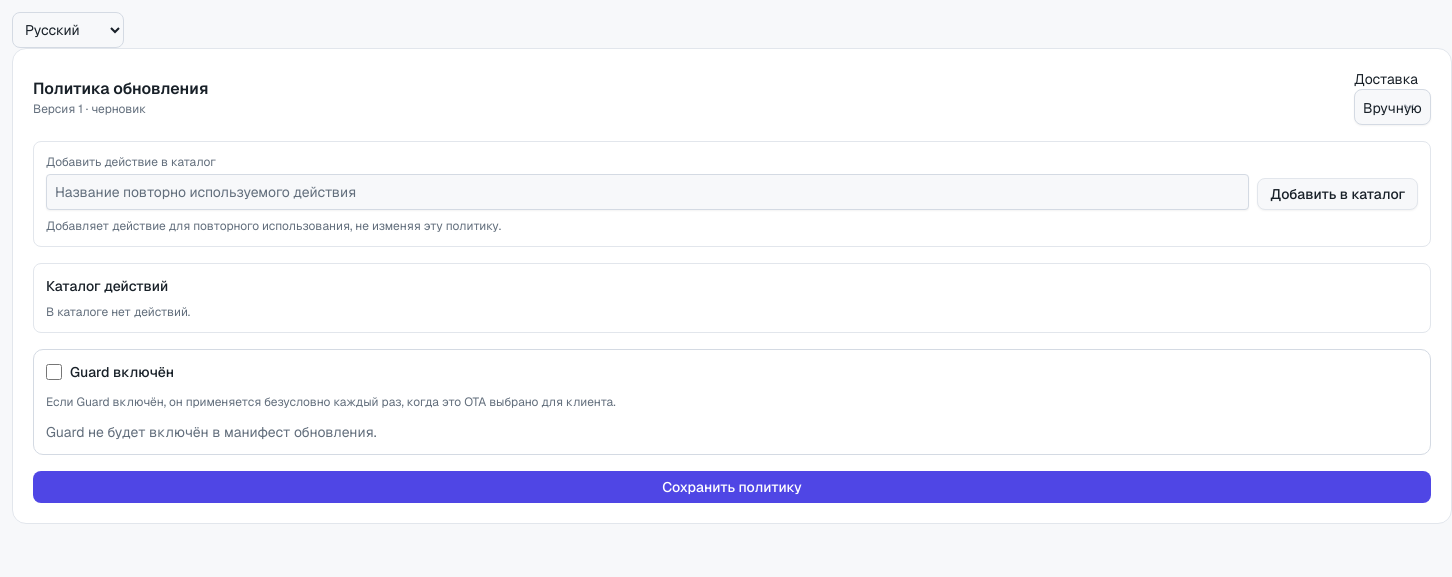
language switching › switches the policy editor, catalog, and errors in place
Select "Українська" in the dropdown named "Язык интерфейса" at (68, 30), box [12,12,124,48]
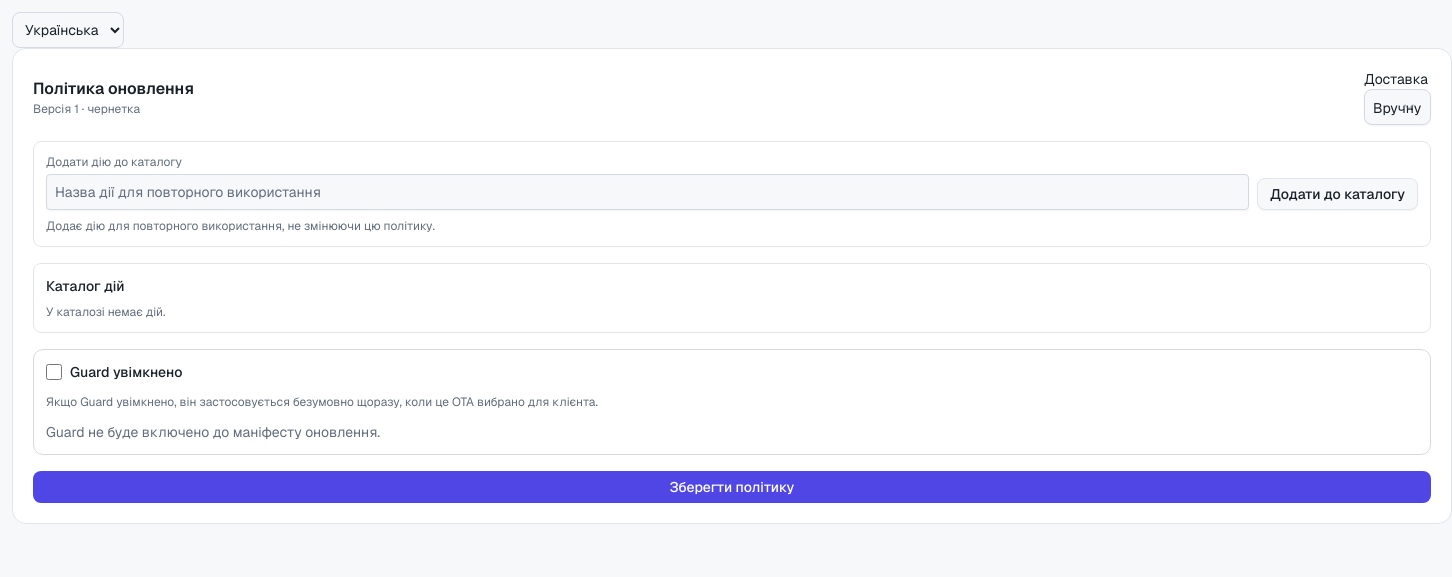
expect the text "Політика оновлення" is shown: met, box [33,77,194,101]
expect the text "Додати дію до каталогу" is shown: met, box [46,154,1249,210]
Click the button "Зберегти політику" at (732, 487), box [33,471,1431,503]
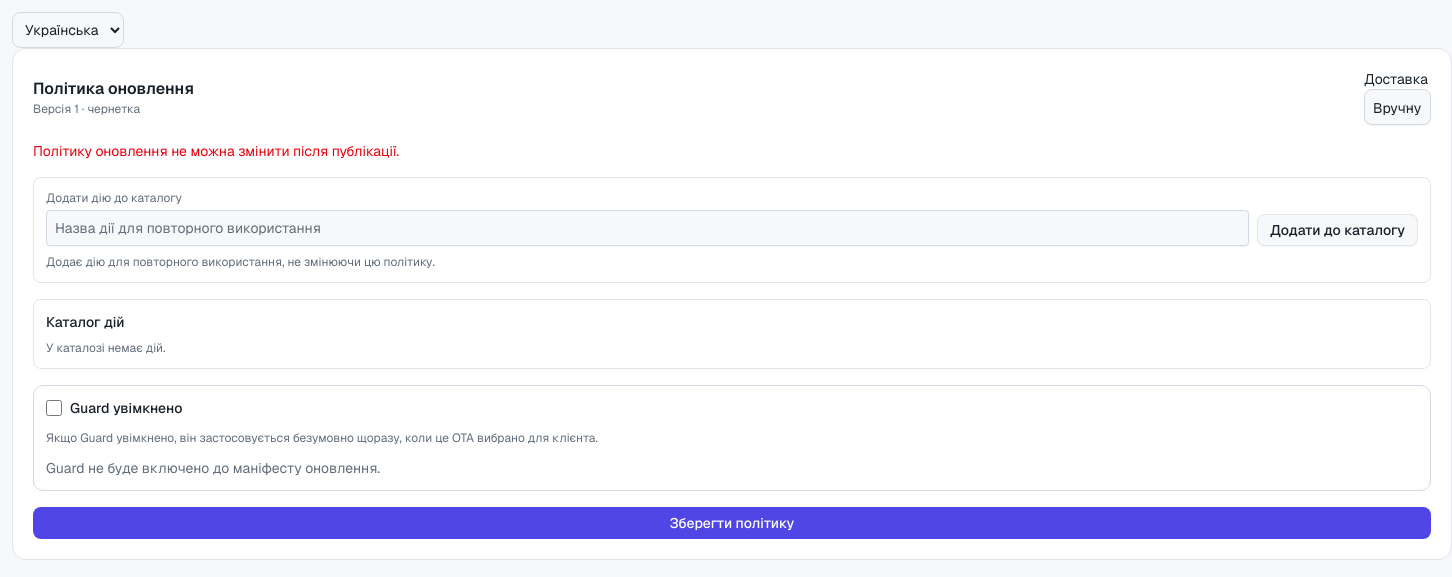
expect the text "Політику оновлення не можна змінити після публікації." is shown: met, box [33,142,399,160]
Select "Русский" in the dropdown named "Мова інтерфейсу" at (68, 30), box [12,12,124,48]
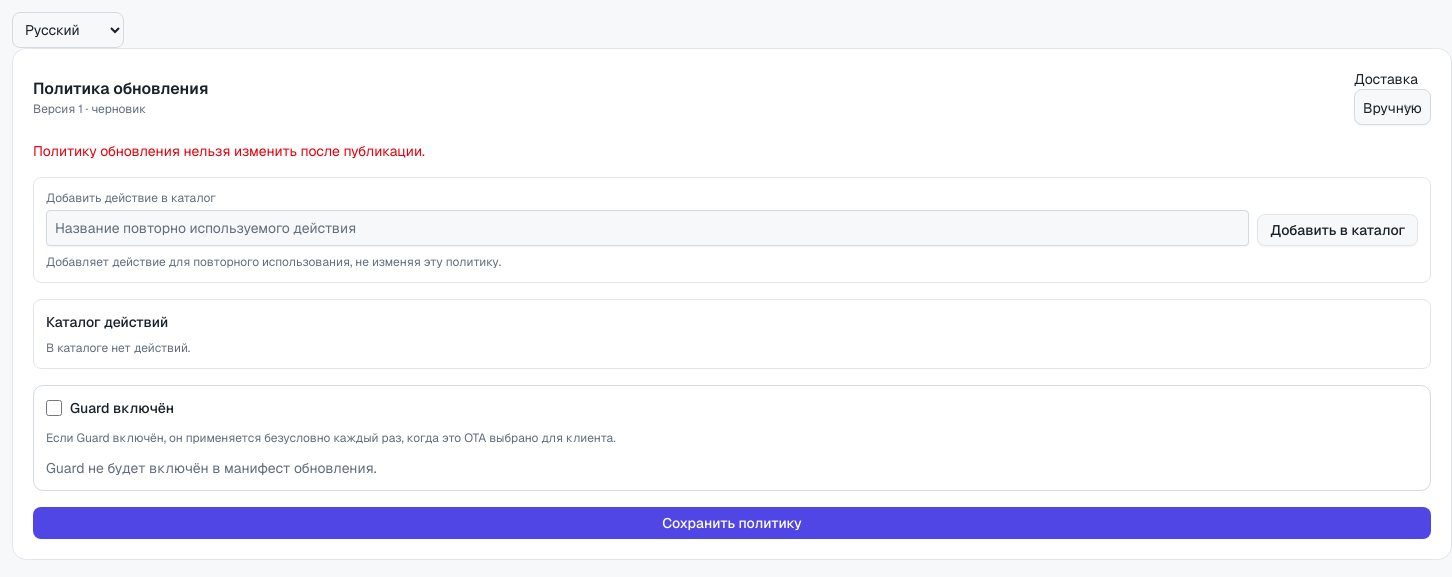
expect the text "Политику обновления нельзя изменить после публикации." is shown: met, box [33,142,425,160]
